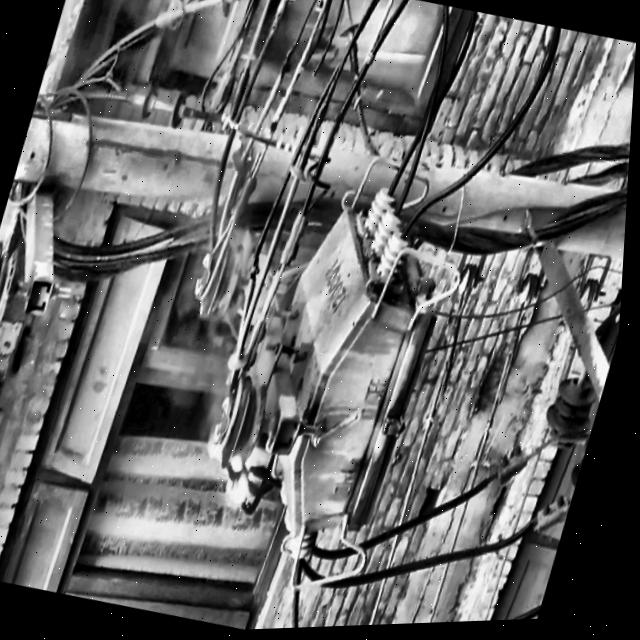Fire: (203, 422, 276, 523)
